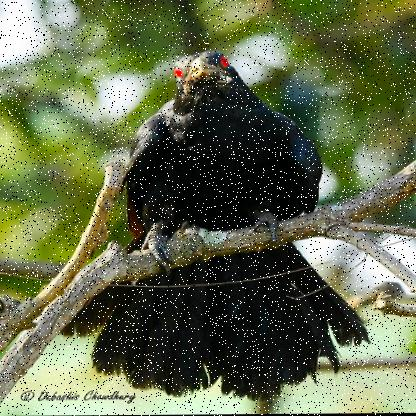Burung: (58, 51, 371, 403)
